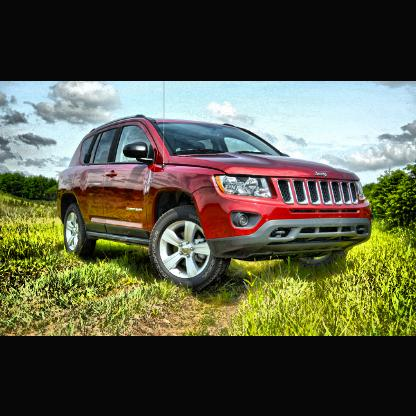Jeep Compass SUV 2012: (59, 115, 373, 290)
